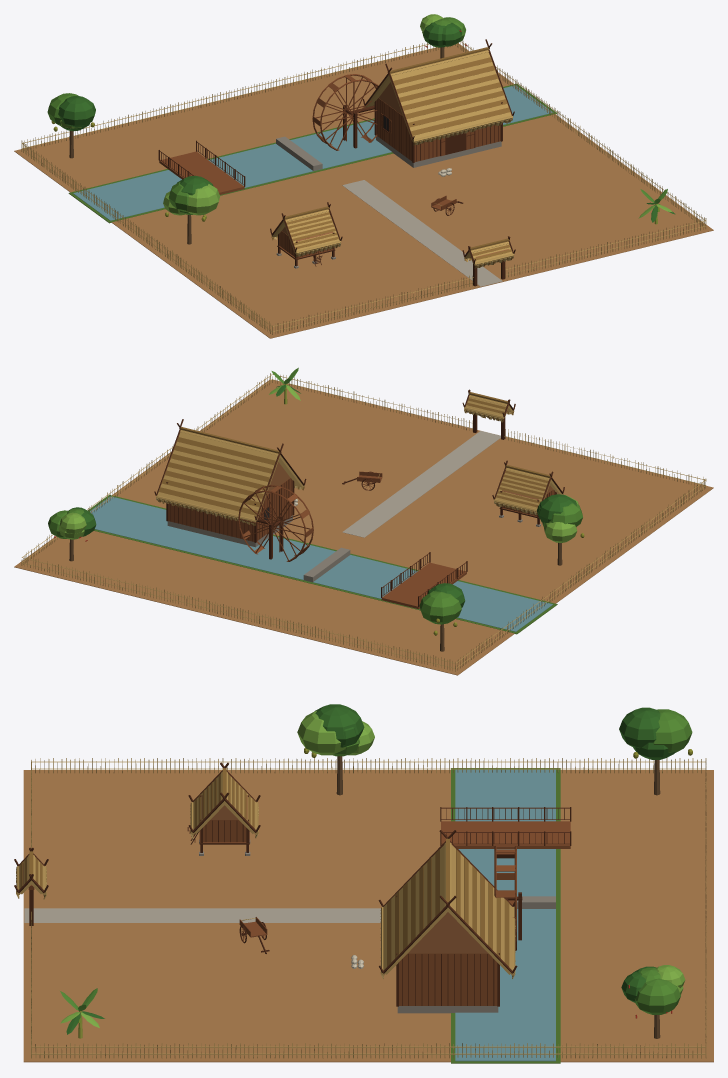
File: power_plant.glb
3 views of the same model, one above another, from view 1: azimuth 30°, elevation 25°; view 2: azimuth 150°, elevation 25°; view 3: azimuth 270°, elevation 25° (orthographic). The views are drawn at different scales.
Visible parts, largest first — view 1: body; view 2: body; view 3: body.
Boxes of the visible parts, box(x1,y1,x2,y2) form: body: box(14, 14, 713, 338); body: box(14, 367, 713, 675); body: box(14, 704, 713, 1063).
Size of the model in its own units: 48.4 by 9.79 by 48.56.
